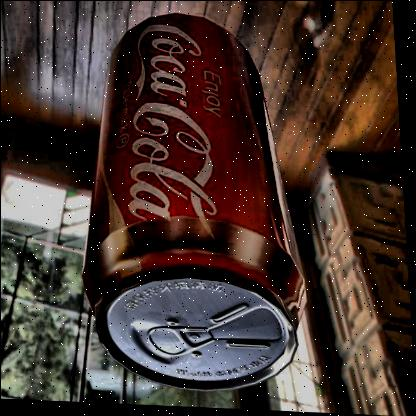Can: (65, 1, 313, 401)
